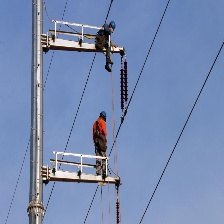person: (93, 110, 111, 179), (99, 18, 118, 75)
